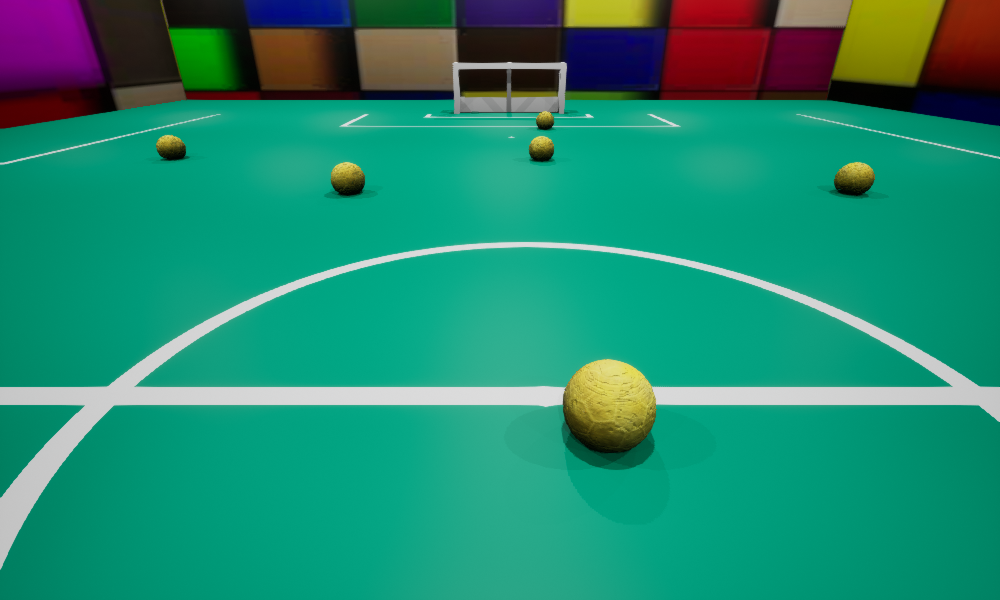b: (563, 359, 656, 452), (834, 162, 874, 194), (330, 162, 364, 193), (156, 135, 185, 159), (529, 136, 553, 160), (536, 111, 553, 128)
g: (452, 62, 566, 113)
